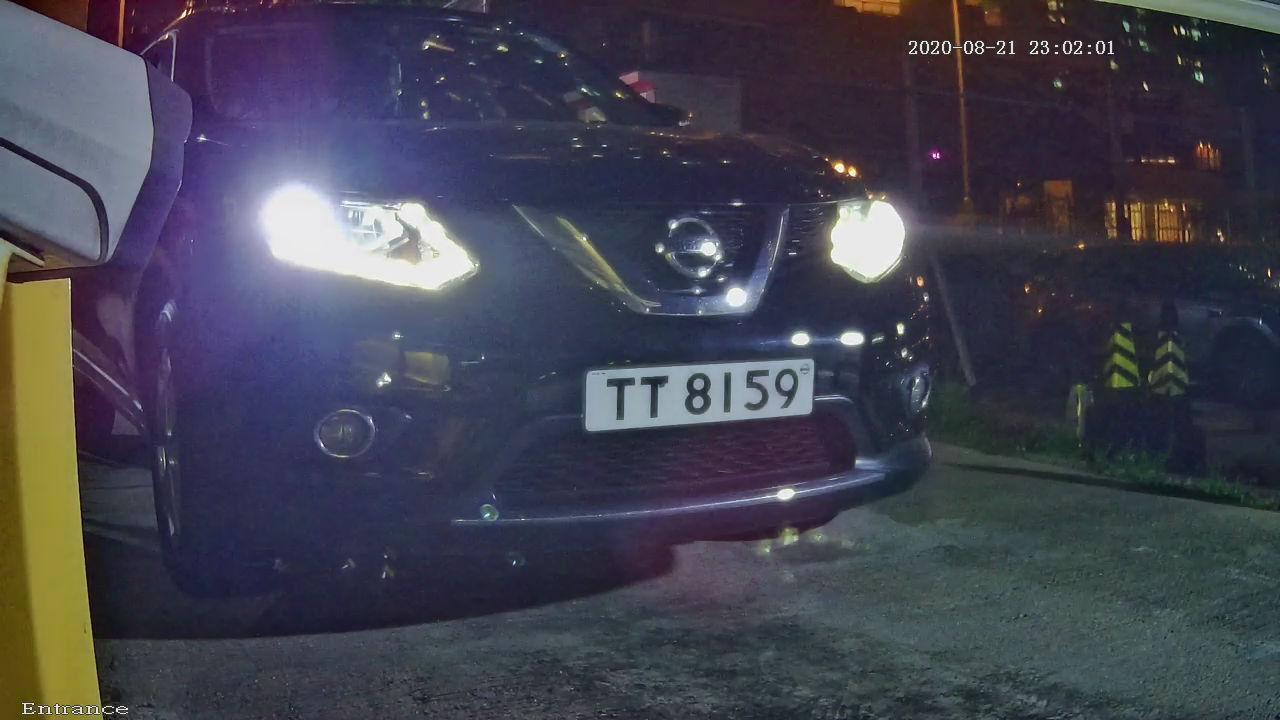Car: (58, 20, 961, 631)
License Plate: (527, 331, 868, 463)
